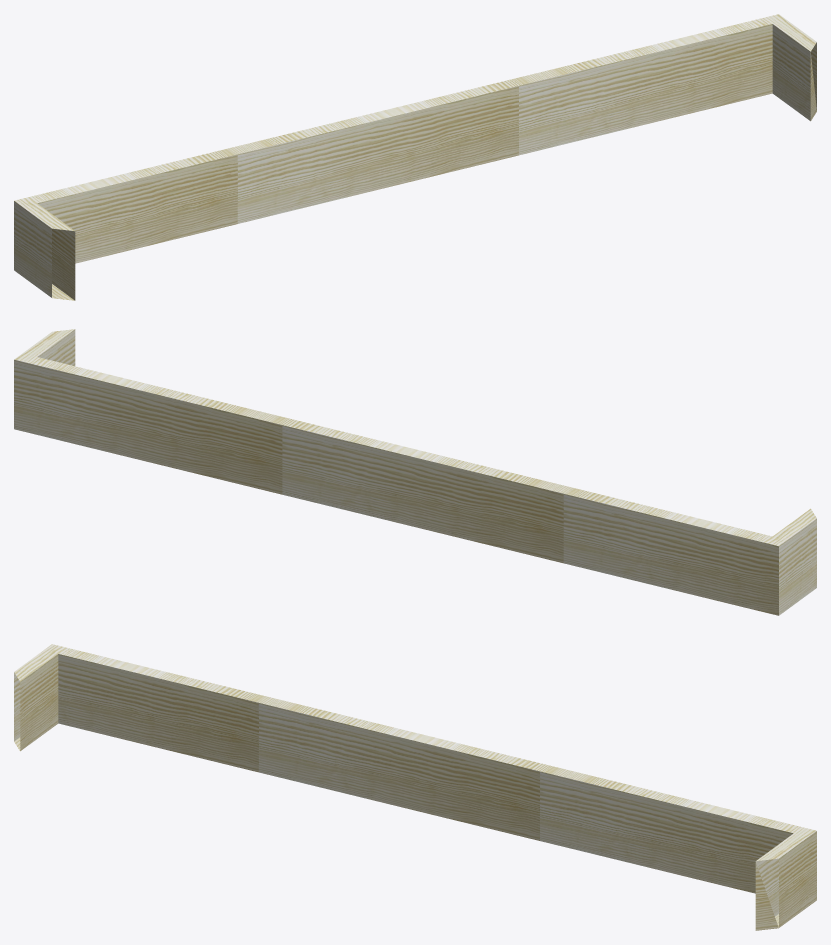
3 views of the same model, one above another, from view 1: azimuth 30°, elevation 25°; view 2: azimuth 150°, elevation 25°; view 3: azimuth 330°, elevation 25° (orthographic).
Size of the model in its own units: 1.39 by 0.1212 by 0.1471.
1 material, 1 textured.
